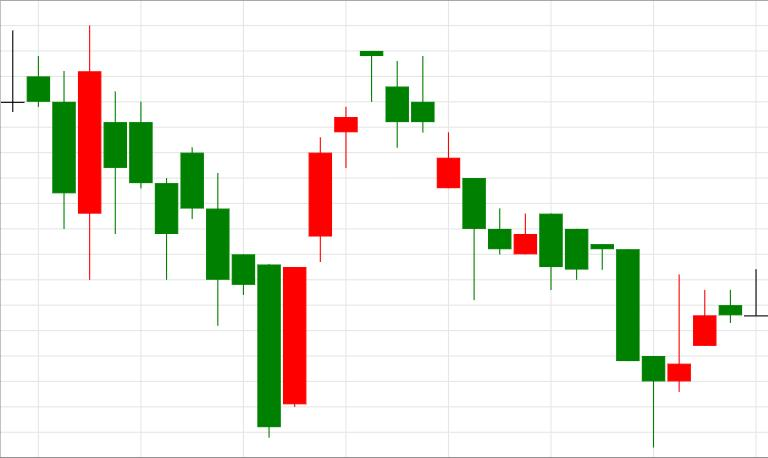hammer_rise: (462, 178, 665, 448)
three_white_soldiers_rise: (104, 92, 358, 438)
